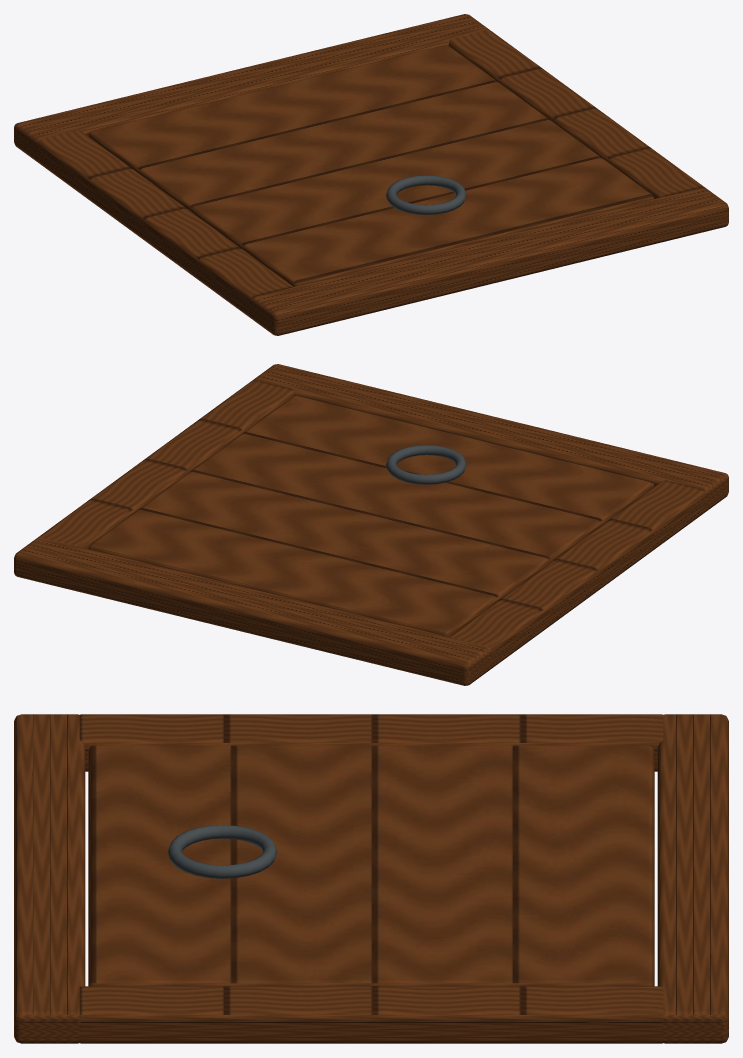
The model's file is undercity-sewers-and-thieves-den-den-trapdoor-2dcf163c__27244.glb.
3 views of the same model, one above another, from view 1: azimuth 30°, elevation 25°; view 2: azimuth 150°, elevation 25°; view 3: azimuth 270°, elevation 25° (orthographic). The views are drawn at different scales.
Visible parts, largest first — view 1: trapdoor, den-trapdoor; view 2: trapdoor, den-trapdoor; view 3: trapdoor, den-trapdoor.
Part boxes in pixels (box(x1,y1,x2,y2)): trapdoor: box(88, 45, 654, 286); den-trapdoor: box(14, 14, 728, 335); trapdoor: box(88, 395, 654, 636); den-trapdoor: box(14, 364, 728, 685); trapdoor: box(88, 745, 654, 986); den-trapdoor: box(14, 714, 728, 1043).
Size of the model in its own units: 1.2 by 0.092 by 1.2.
2 materials, 1 textured.
